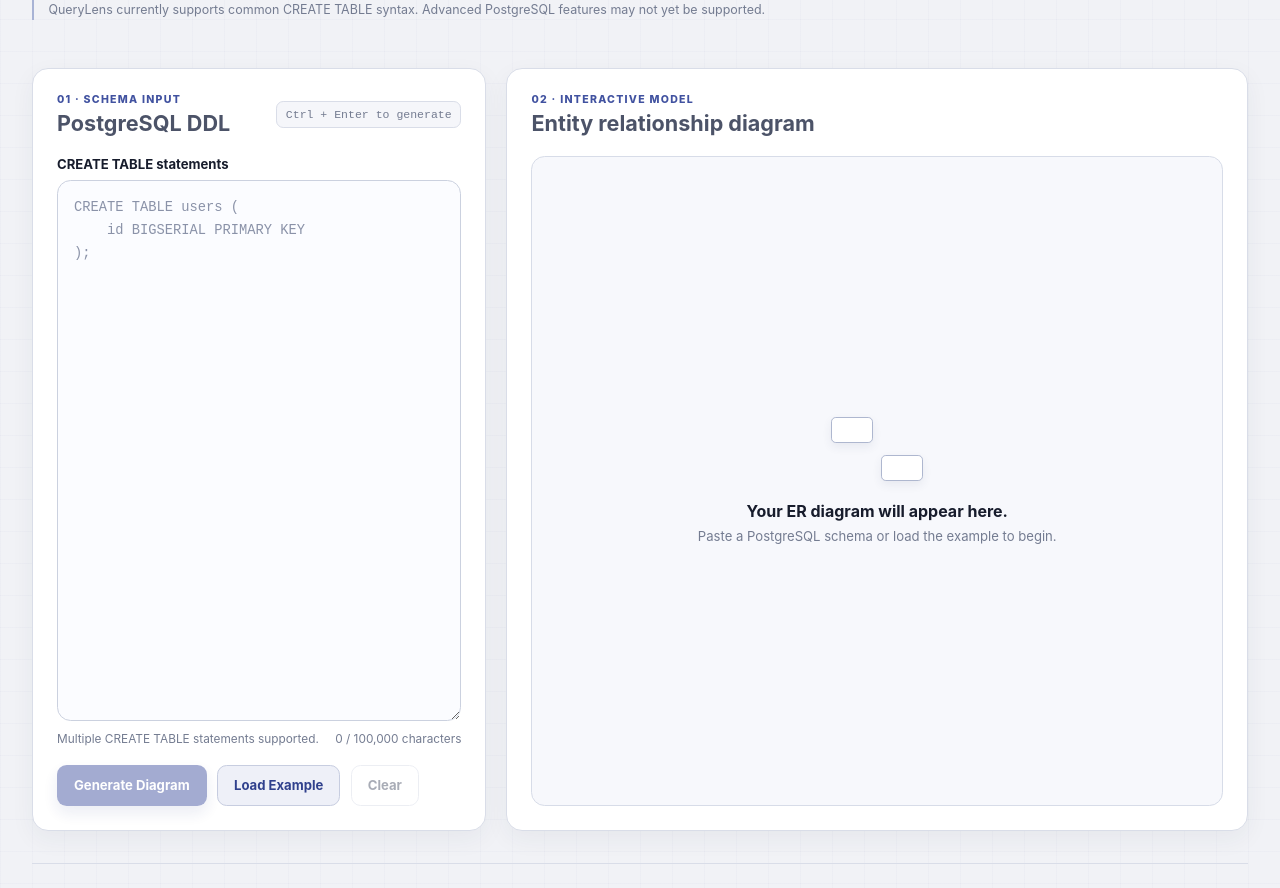
Test: App › clears SQL, errors, and a completed diagram
(page scrolled)
Type "CREATE TABLE users ();" into the text box labelled "CREATE TABLE statements".
click(259, 451); type("CREATE TABLE users ();")  # box [57,180,462,721]
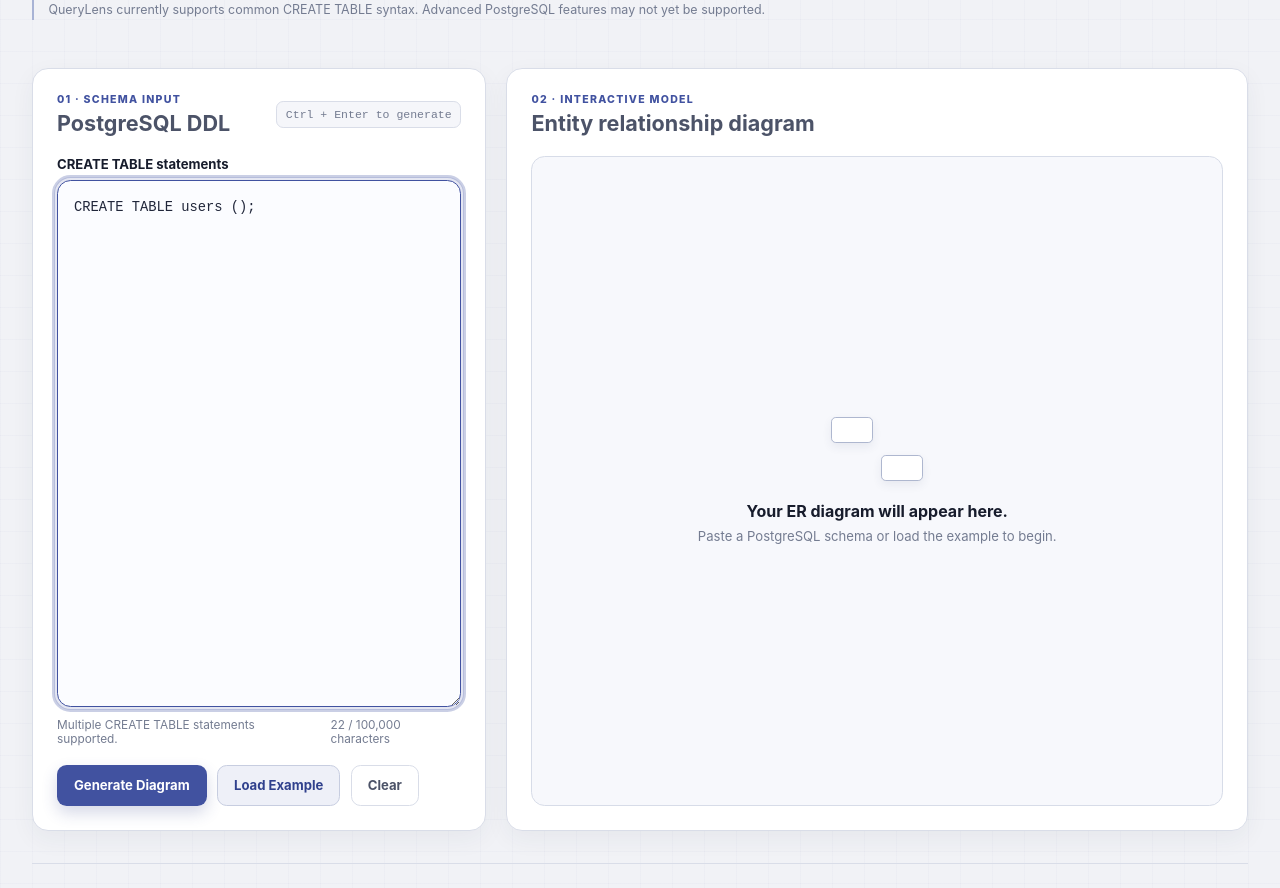
Click the button "Generate Diagram".
click(132, 785)  # box [57,765,207,806]
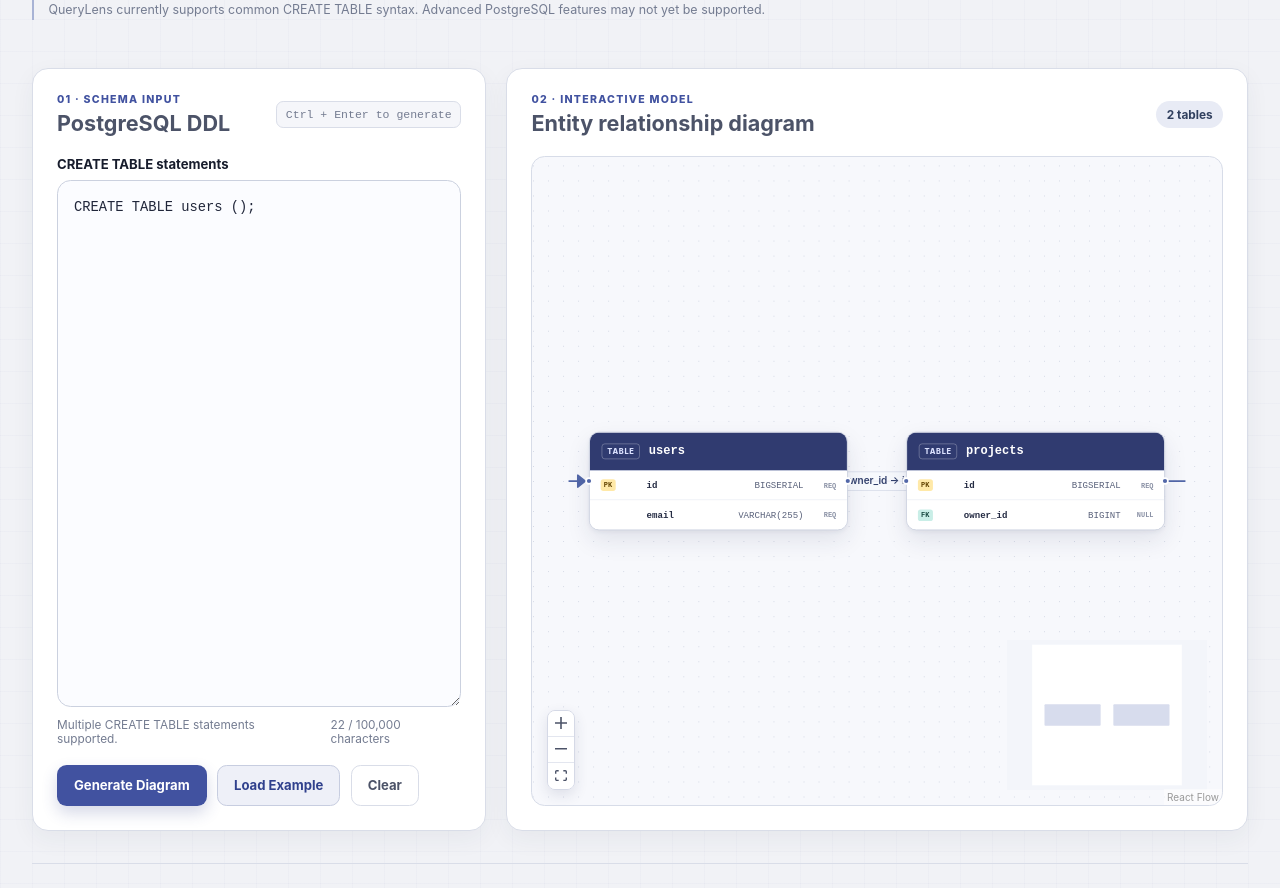
Check: the text "projects" is shown, box [966,444,1024,458]
Click the button "Clear".
click(385, 785)  # box [351,765,419,806]
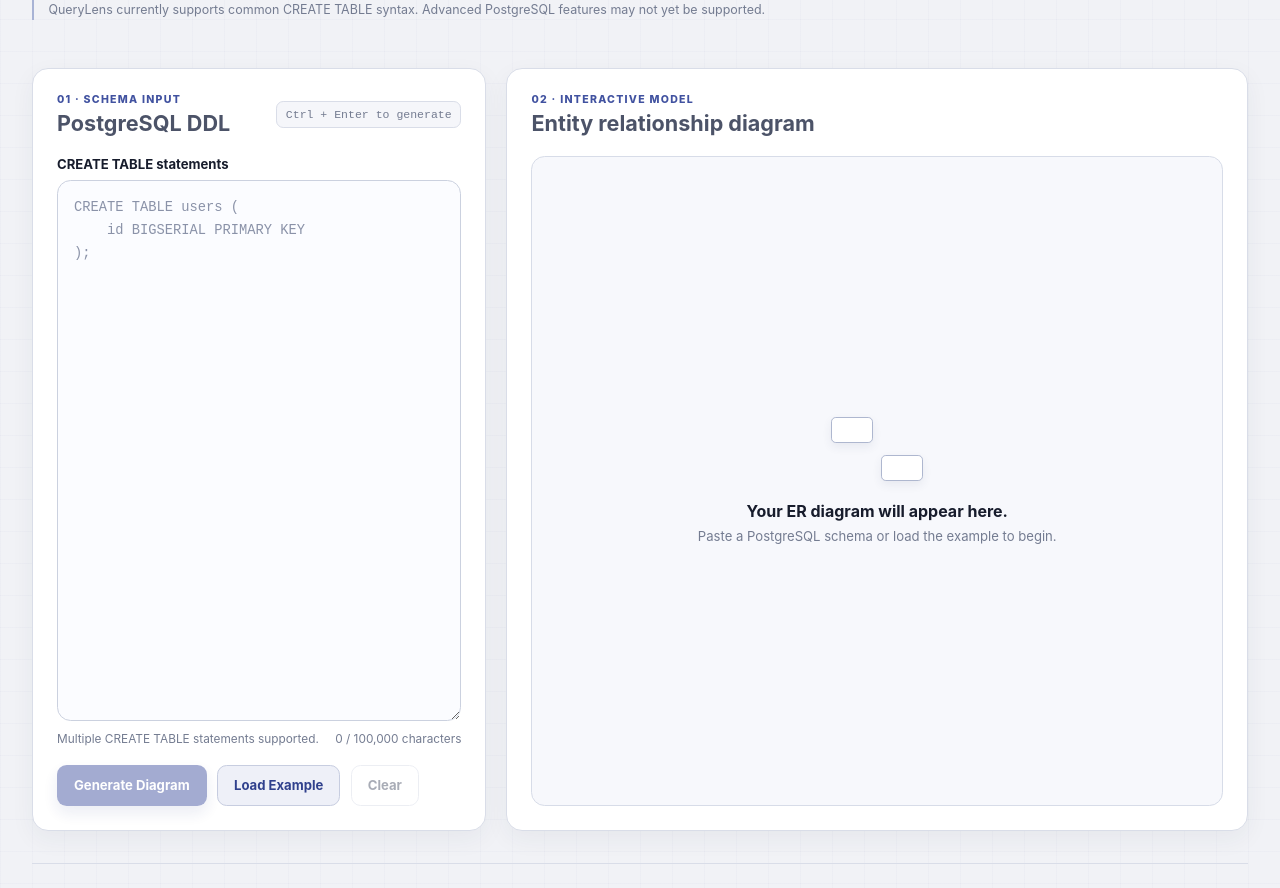
Check: the text box labelled "CREATE TABLE statements" is empty, box [57,180,462,721]
Check: the heading "Your ER diagram will appear here." is shown, box [746,501,1008,521]
